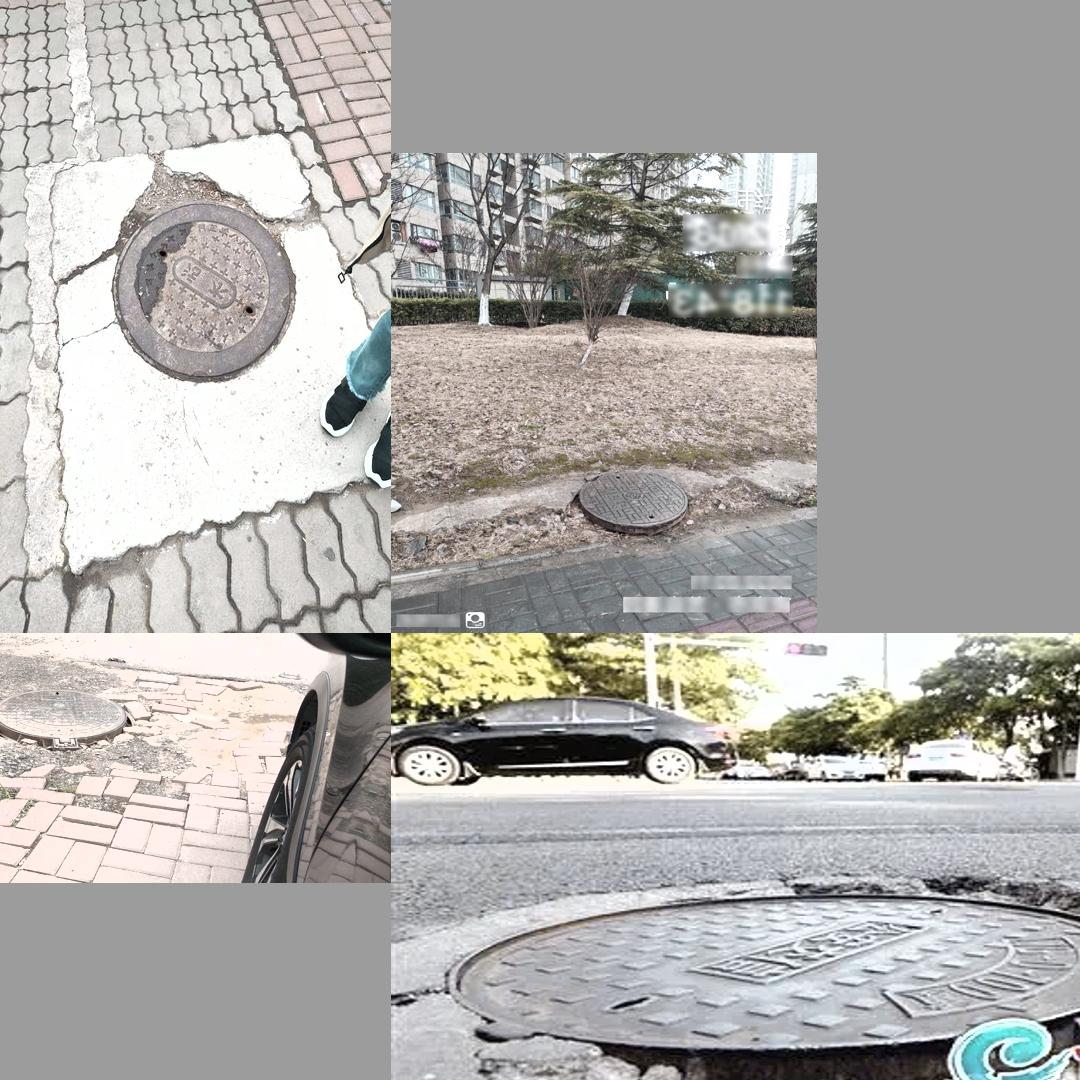circle: (408, 873, 1080, 1080), (66, 158, 330, 412), (0, 672, 183, 771), (573, 468, 690, 533)
